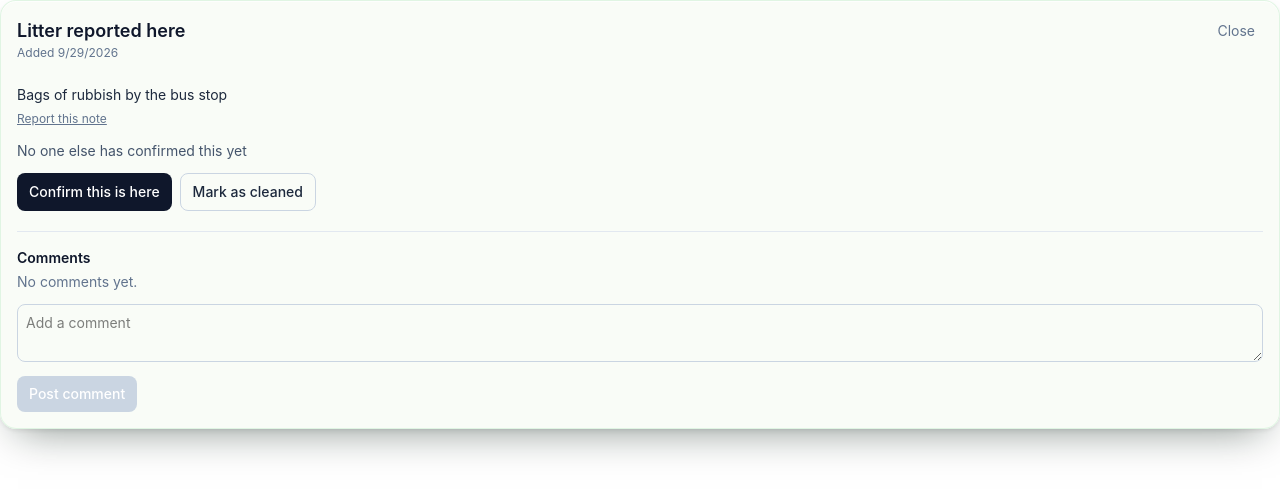
Test case: ReportDetail — the cleaned moment › marks the report cleaned and plays the wipe
Click the button "Mark as cleaned" at (248, 192), box [180, 173, 316, 211]
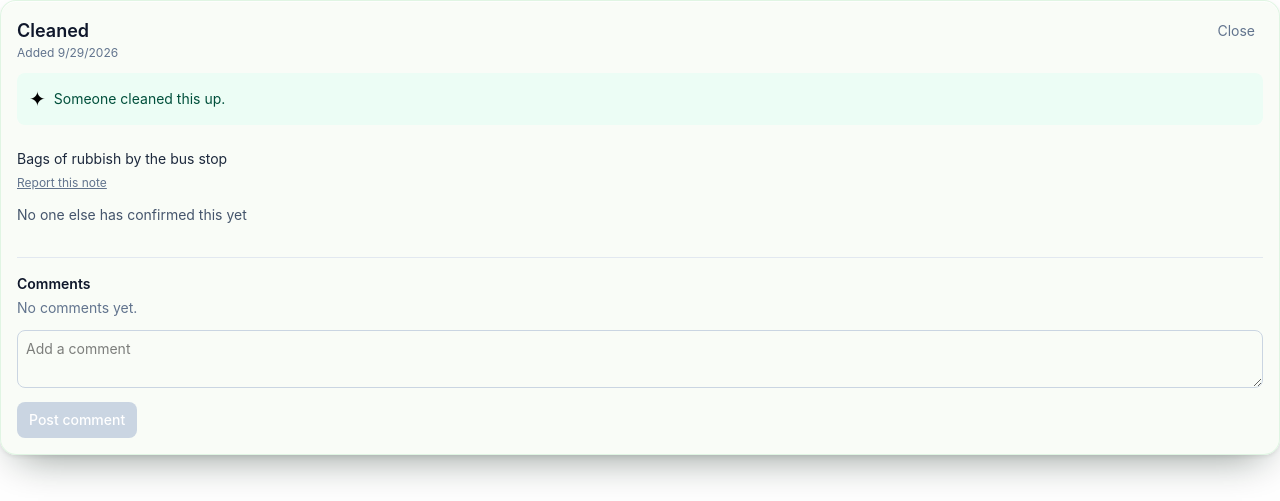
Result: the element with test id "cleaned-mark" shows "Someone cleaned this up" at [54, 90, 225, 107]
